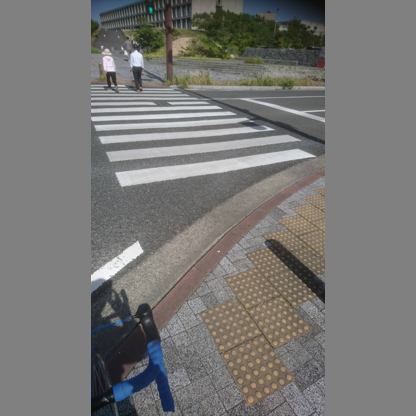brailleblock: (202, 302, 294, 405), (248, 243, 315, 304), (281, 216, 322, 270), (224, 267, 279, 305), (307, 195, 323, 222)
crosswalk: (89, 84, 309, 177)
signal: (142, 3, 157, 16)
